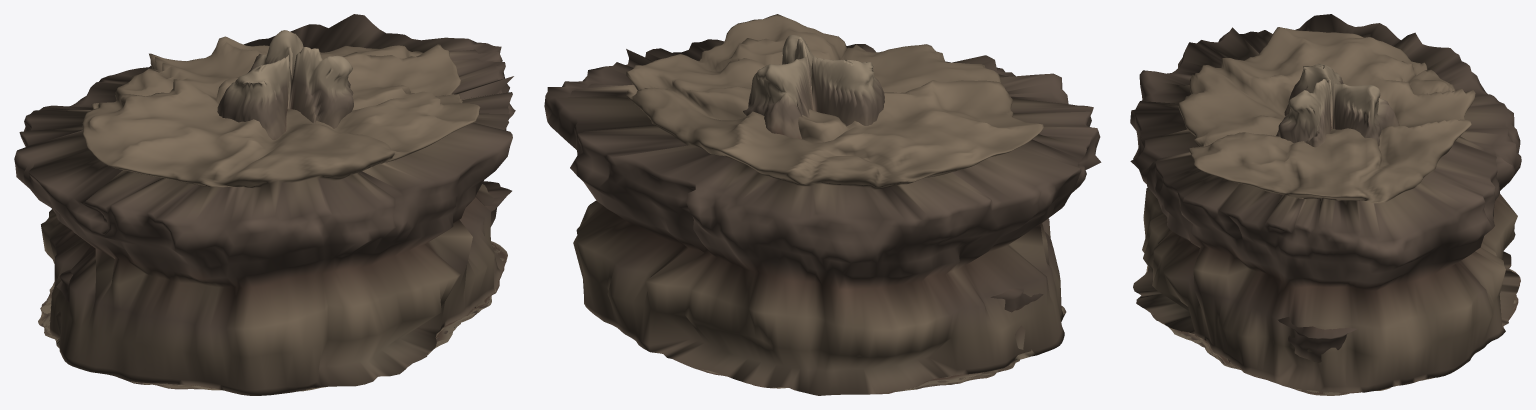
The model's file is rocks_big.glb.
3 views of the same model, side by side, from view 1: azimuth 30°, elevation 25°; view 2: azimuth 150°, elevation 25°; view 3: azimuth 270°, elevation 25° (orthographic). The views are drawn at different scales.
Parts seen in each view (by area): view 1: big_butte, big_spire, big_slab; view 2: big_butte, big_spire, big_slab; view 3: big_butte, big_spire, big_slab.
Boxes of the visible parts, x1,y1,x2,y2 form: big_butte: [14, 14, 515, 395]; big_spire: [217, 30, 353, 140]; big_slab: [56, 181, 511, 348]; big_butte: [544, 14, 1101, 395]; big_spire: [743, 35, 884, 138]; big_slab: [990, 288, 1043, 359]; big_butte: [1130, 14, 1521, 395]; big_spire: [1276, 63, 1399, 147]; big_slab: [1278, 317, 1357, 362].
Bounding box in the file's own units: 32.58 × 15.6 × 24.24.
